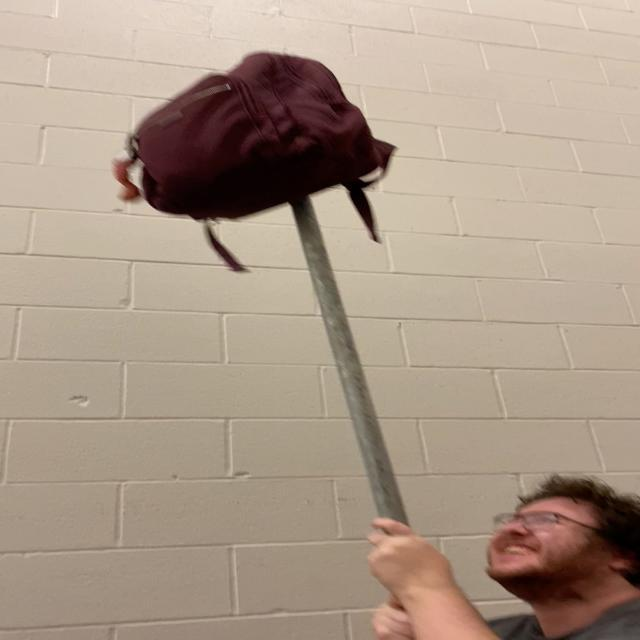Backpacks: (124, 49, 394, 222)
